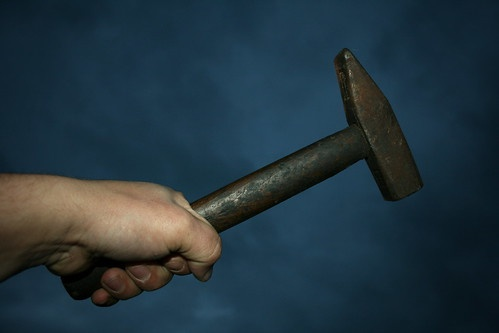hammer: (59, 43, 423, 303)
